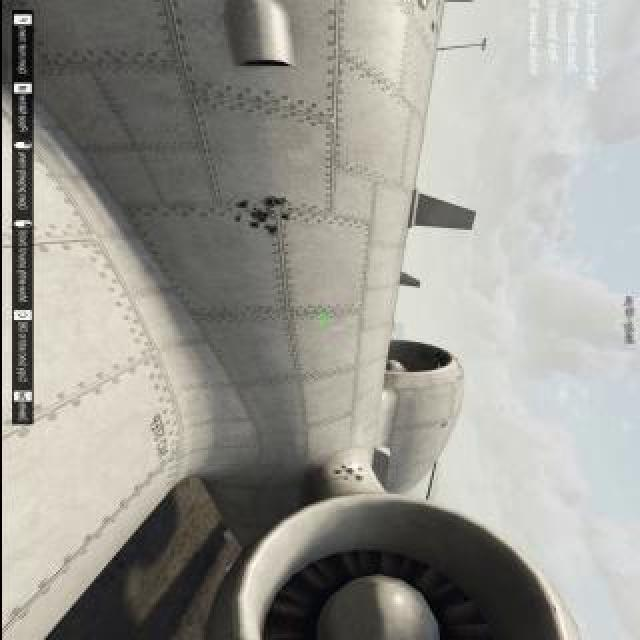crack: (264, 197, 286, 207), (234, 200, 246, 212), (278, 213, 292, 223), (245, 221, 259, 231), (250, 212, 266, 220), (350, 475, 364, 483), (265, 227, 277, 235), (343, 468, 355, 476), (333, 469, 343, 477), (355, 468, 363, 472)
